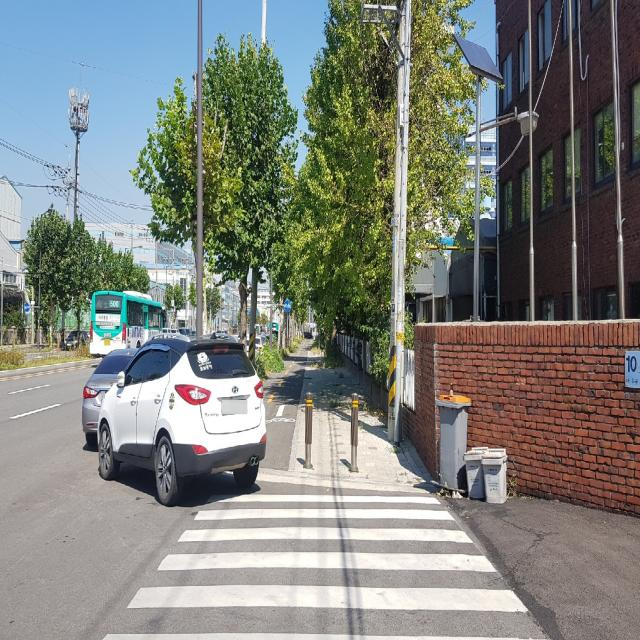횡단보도: (102, 490, 532, 639)
